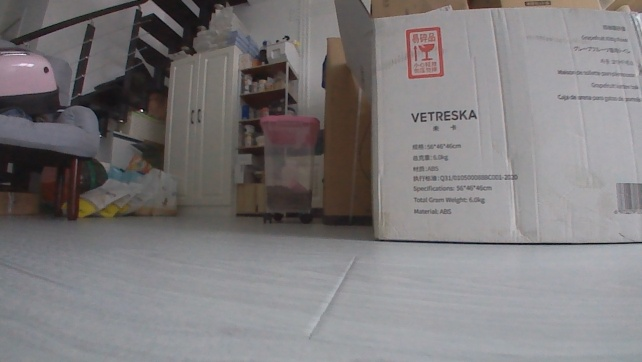sofa1: (0, 35, 103, 224)
